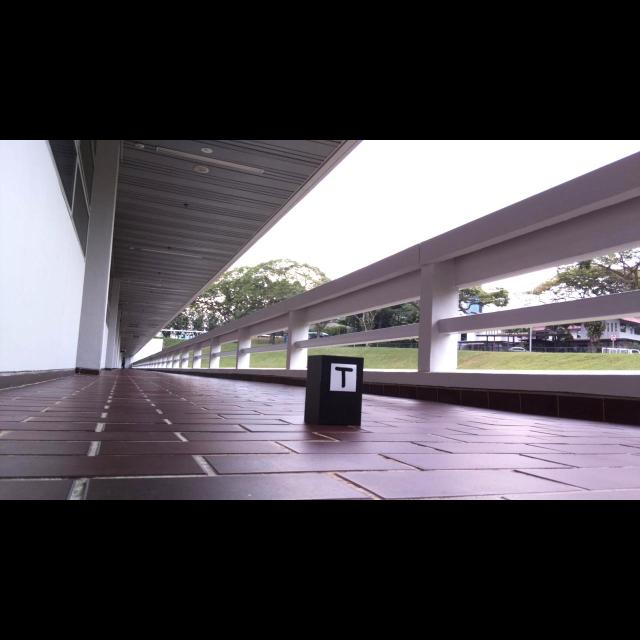T: (335, 367, 353, 388)
